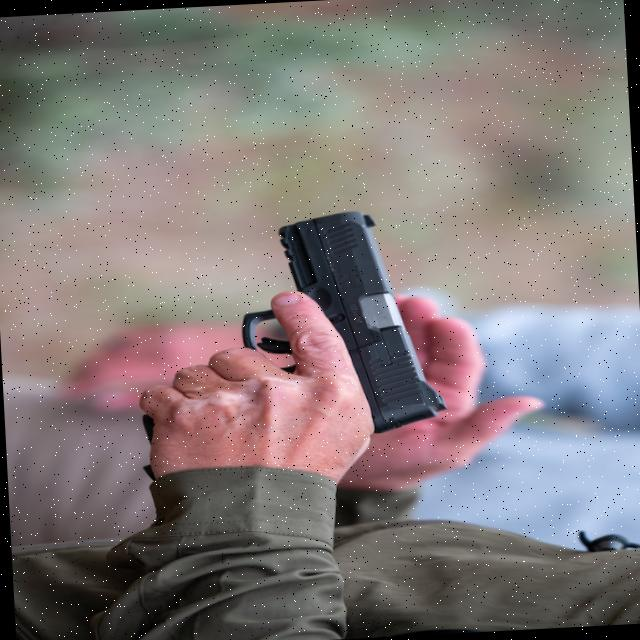Handgun: (139, 206, 449, 464)
